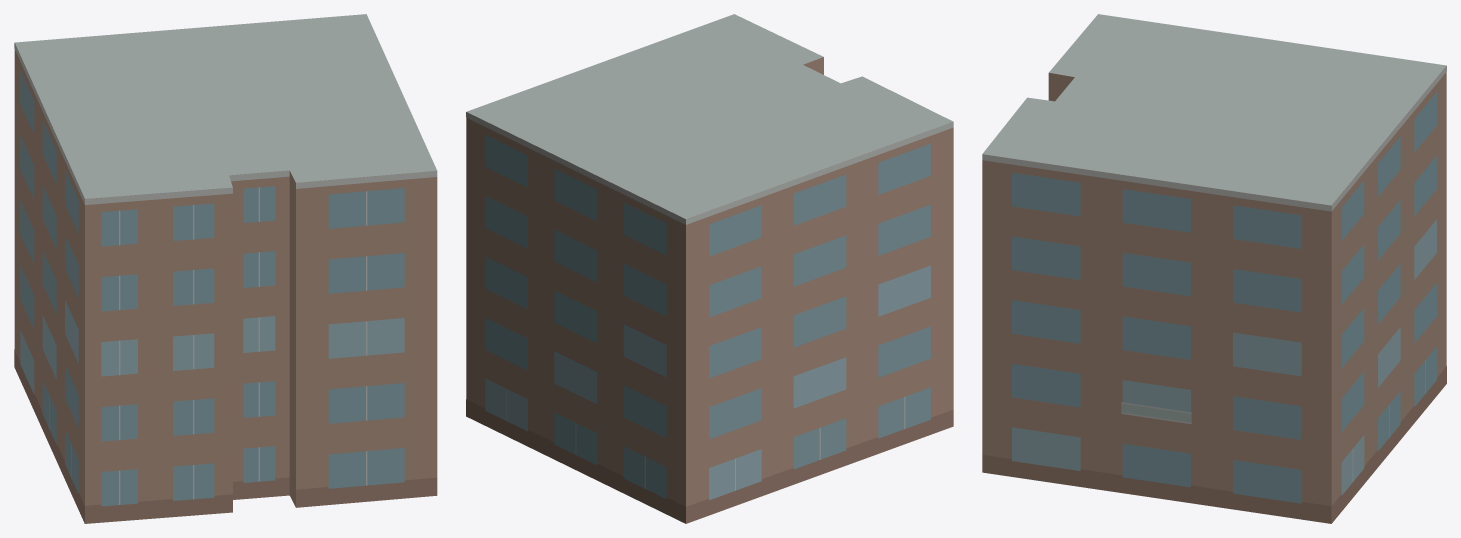
The model's file is survey-upis-32852777.glb.
The picture shows the model from 3 angles, left to right: view 1: azimuth 30°, elevation 25°; view 2: azimuth 150°, elevation 25°; view 3: azimuth 270°, elevation 25°; orthographic projection. The views are drawn at different scales.
Visible parts, largest first — view 1: survey-upis-32852777.tmp; view 2: survey-upis-32852777.tmp; view 3: survey-upis-32852777.tmp.
Part boxes in pixels (bbox=[...]): survey-upis-32852777.tmp: bbox=[14, 14, 437, 523]; survey-upis-32852777.tmp: bbox=[466, 14, 953, 523]; survey-upis-32852777.tmp: bbox=[982, 14, 1446, 523].
Size of the model in its own units: 16.79 by 13 by 17.21.
